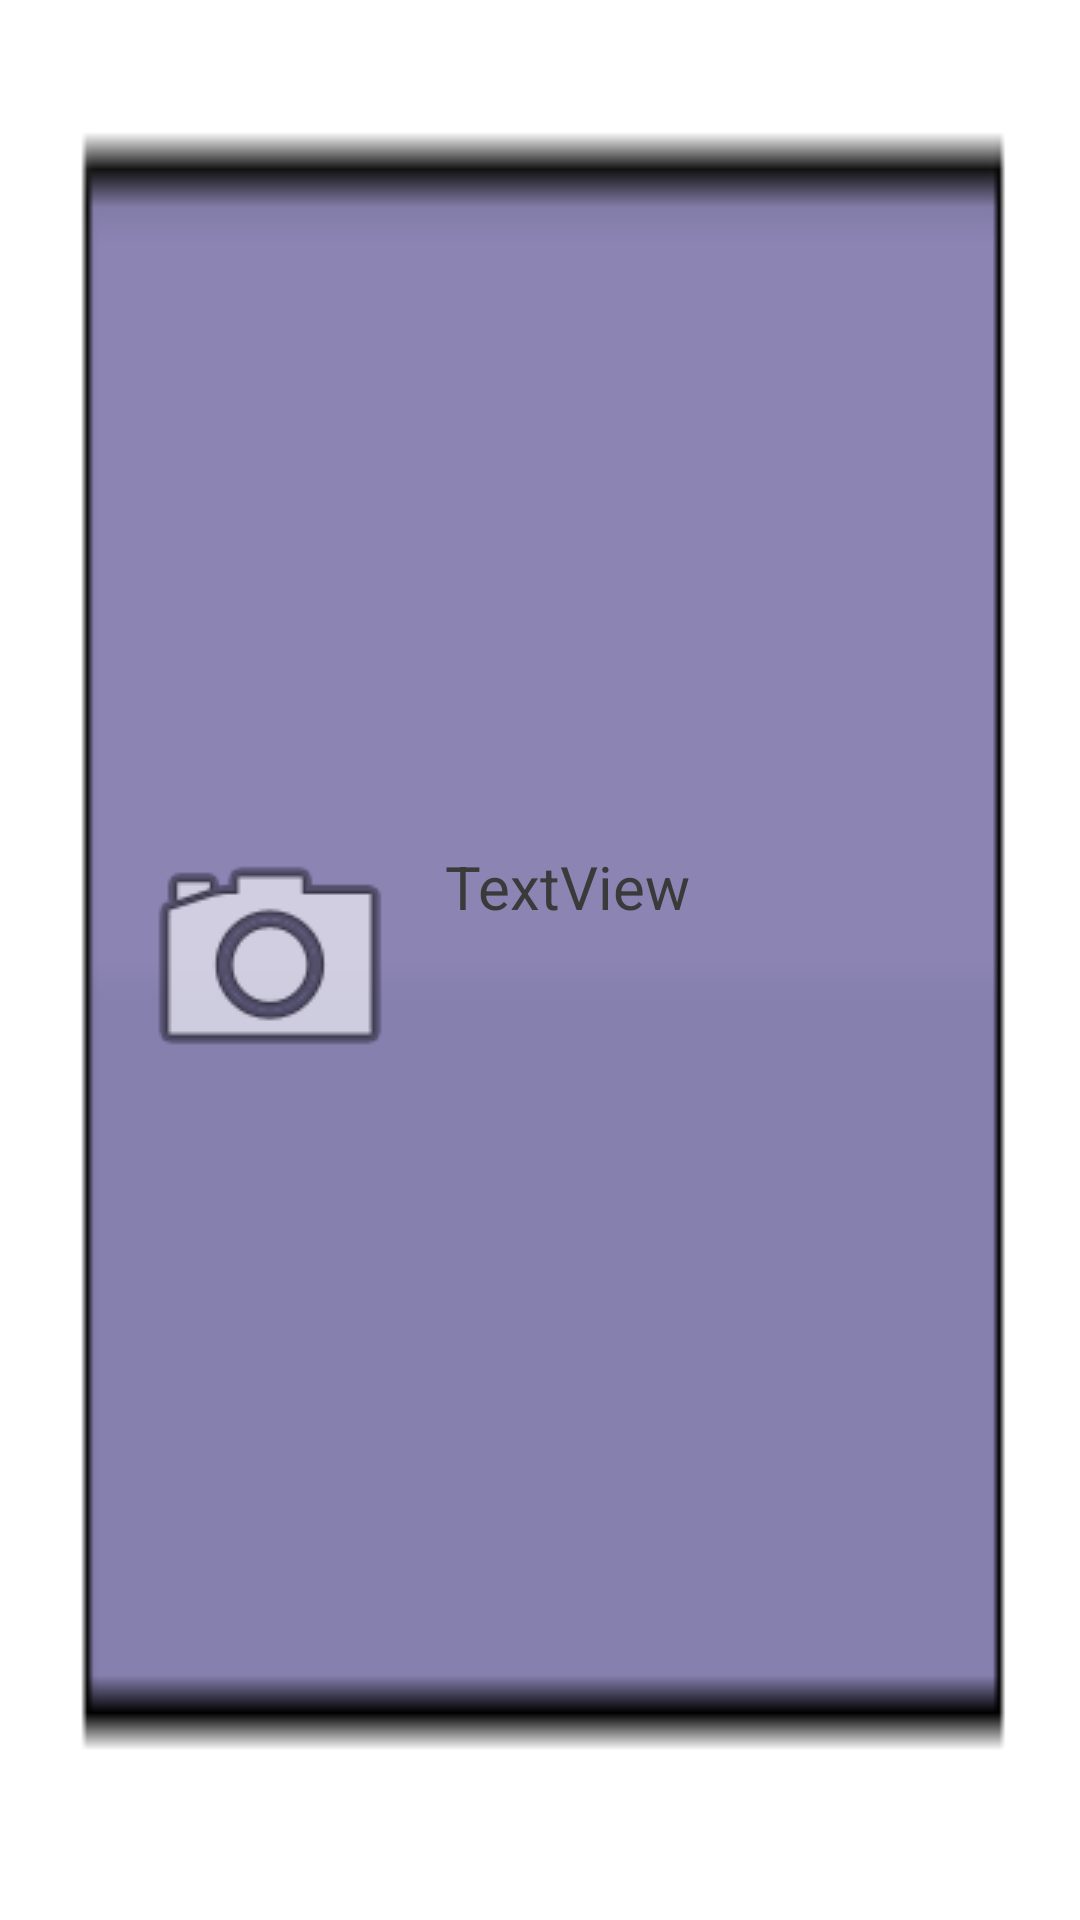

Screen size 1080*1920. Icon name, then its box in pixels as (x1, y1, x2, y2):
camera: (159, 867, 381, 1044)
